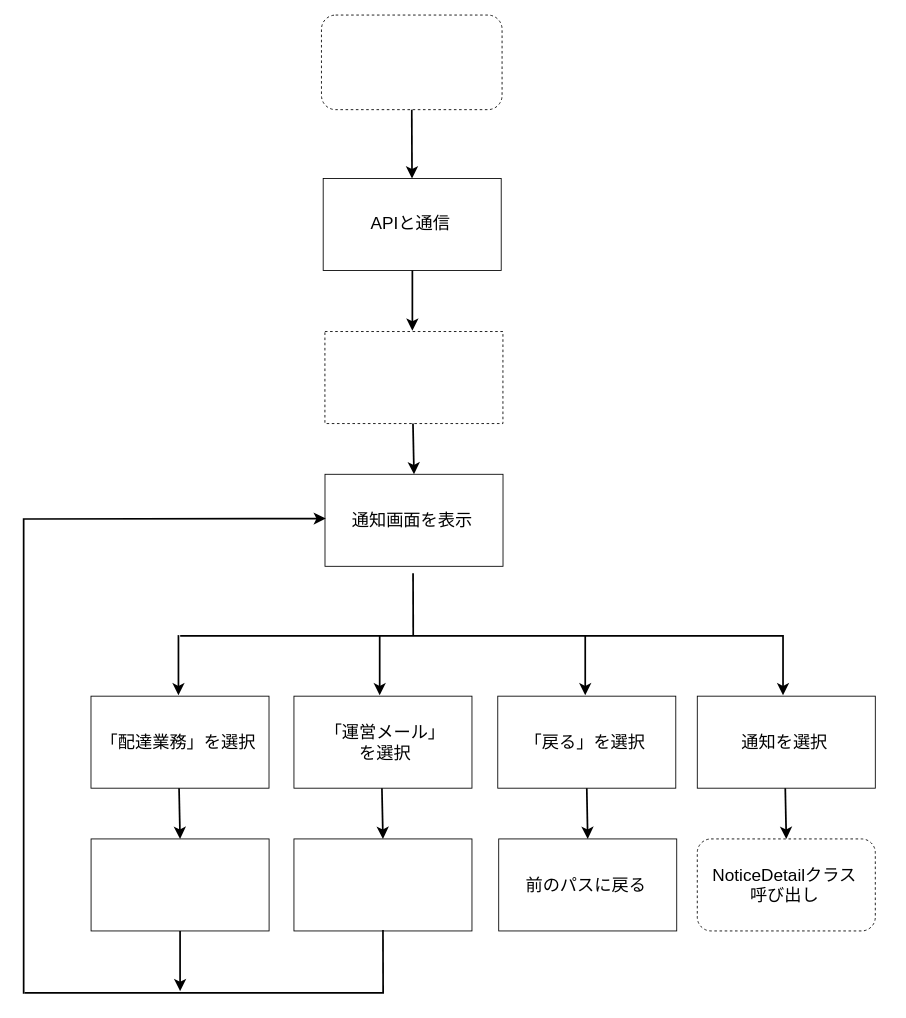
The diagram is 906 pixels wide and 1018 high, and some of its shapes have lost their labels. Each missing label, with the centre of its shape:
"Notice クラス呼び出し" belongs at [411,62].
"通知情報取得" belongs at [413,377].
"運営メールの 通知画面を表示" belongs at [382,884].
"配業務の 通知画面を表示" belongs at [179,884].
